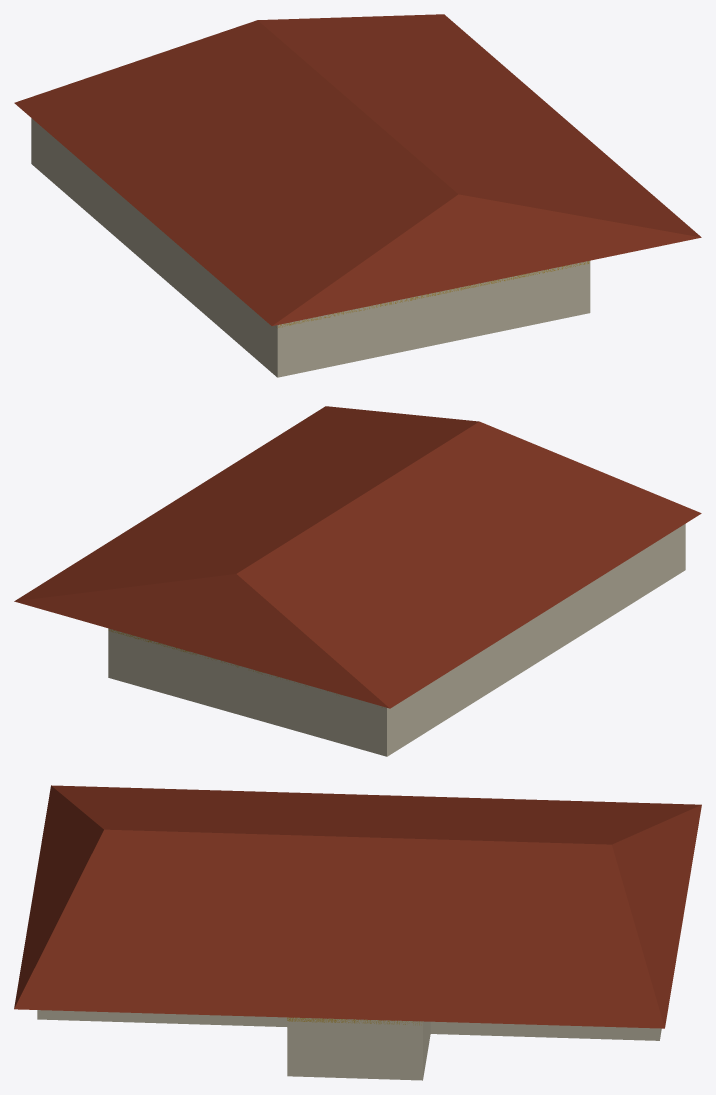
The model's file is museum-sang-nila-utama-lod2.glb.
3 renders of one model, top to bottom at view 1: azimuth 30°, elevation 25°; view 2: azimuth 150°, elevation 25°; view 3: azimuth 270°, elevation 25°, orthographic. The views are drawn at different scales.
Visible parts, largest first — view 1: museum-sang-nila-utama_LOD2; view 2: museum-sang-nila-utama_LOD2; view 3: museum-sang-nila-utama_LOD2.
Part boxes in pixels (bbox=[...]): museum-sang-nila-utama_LOD2: bbox=[14, 14, 701, 377]; museum-sang-nila-utama_LOD2: bbox=[14, 406, 701, 756]; museum-sang-nila-utama_LOD2: bbox=[14, 785, 701, 1080].
Size of the model in its own units: 52.22 by 13.5 by 62.45.
